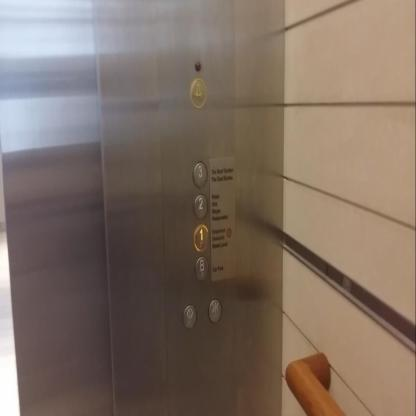1: (193, 223, 209, 253)
2: (193, 192, 208, 220)
3: (192, 160, 208, 189)
B: (194, 255, 210, 281)
alarm: (190, 77, 206, 109)
close: (207, 298, 222, 324)
open: (182, 303, 196, 330)
